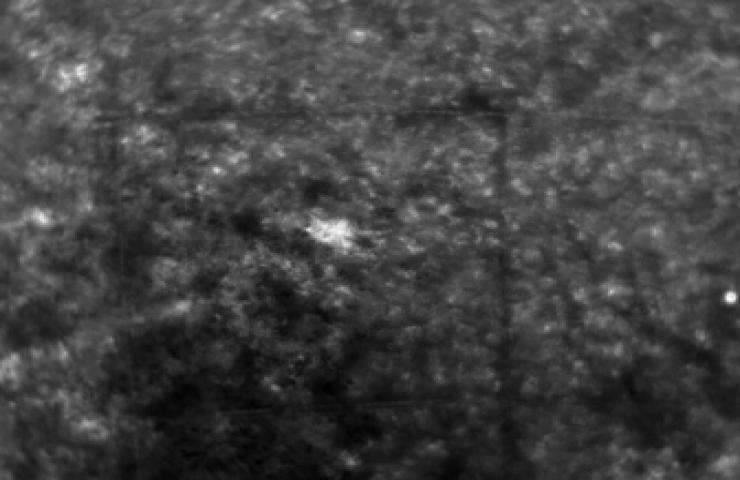landmines: (305, 208, 367, 252), (721, 285, 740, 308)
